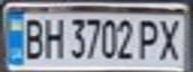0: (100, 16, 118, 61)
2: (115, 16, 139, 61)
3: (66, 15, 87, 60)
7: (81, 16, 103, 60)
B: (18, 15, 48, 61)
H: (39, 15, 66, 61)
P: (136, 16, 163, 61)
X: (154, 16, 187, 62)
